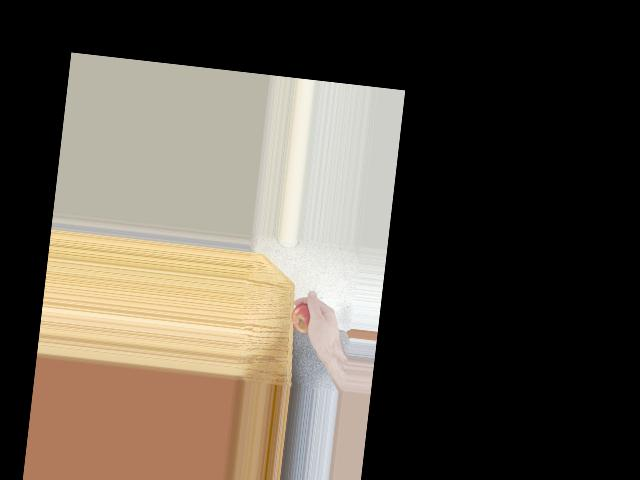apple: (289, 300, 317, 335)
